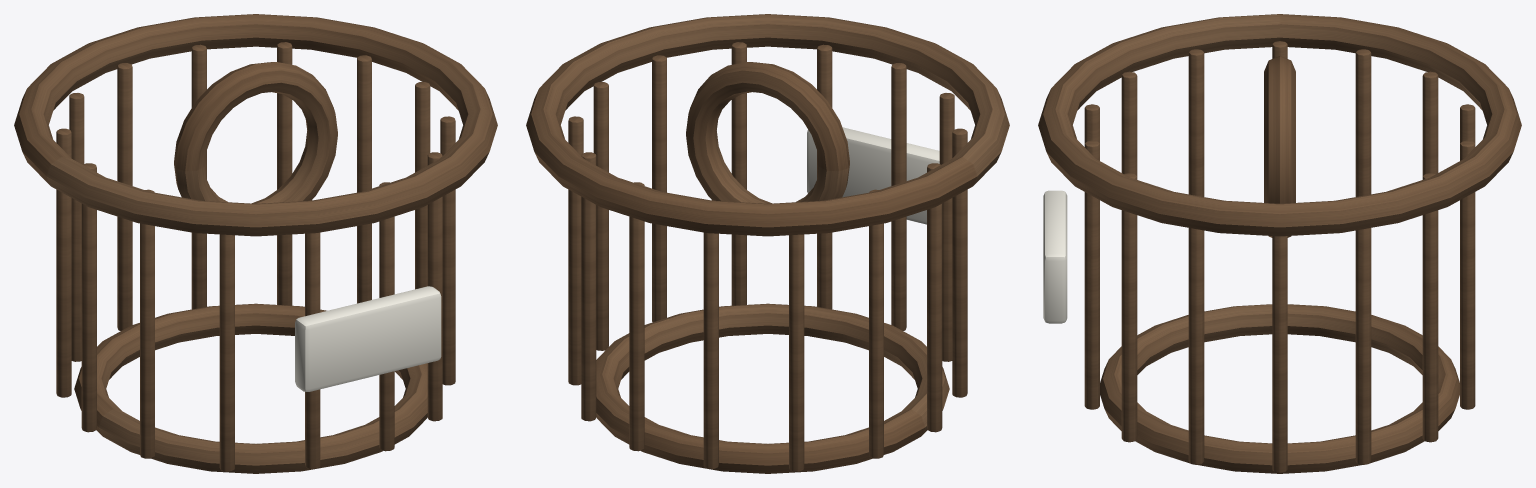
File: range_basket_high_end.glb
The picture shows the model from 3 angles, left to right: view 1: azimuth 30°, elevation 25°; view 2: azimuth 150°, elevation 25°; view 3: azimuth 270°, elevation 25°; orthographic projection.
Visible parts, largest first — view 1: RangeBasket_TopRing, RangeBasket_BottomRing, RangeBasket_CountPlaque, RangeBasket_Handle, RangeBasket_Wire_10, RangeBasket_Wire_5, RangeBasket_Wire_8, RangeBasket_Wire_7, RangeBasket_Wire_9, RangeBasket_Wire_14, RangeBasket_Wire_2, RangeBasket_Wire_3 (+6 smaller); view 2: RangeBasket_TopRing, RangeBasket_BottomRing, RangeBasket_Handle, RangeBasket_CountPlaque, RangeBasket_Wire_6, RangeBasket_Wire_5, RangeBasket_Wire_4, RangeBasket_Wire_11, RangeBasket_Wire_8, RangeBasket_Wire_3, RangeBasket_Wire_9, RangeBasket_Wire_7 (+6 smaller); view 3: RangeBasket_TopRing, RangeBasket_BottomRing, RangeBasket_Handle, RangeBasket_Wire_14, RangeBasket_Wire_2, RangeBasket_Wire_13, RangeBasket_Wire_3, RangeBasket_Wire_1, RangeBasket_Wire_12, RangeBasket_Wire_4, RangeBasket_CountPlaque, RangeBasket_Wire_7 (+5 smaller).
Boxes of the visible parts, x1,y1,x2,y2 form: RangeBasket_TopRing: [14, 14, 497, 236]; RangeBasket_BottomRing: [74, 303, 427, 473]; RangeBasket_CountPlaque: [295, 286, 441, 391]; RangeBasket_Handle: [174, 62, 337, 203]; RangeBasket_Wire_10: [219, 234, 234, 471]; RangeBasket_Wire_5: [117, 63, 132, 330]; RangeBasket_Wire_8: [81, 163, 96, 432]; RangeBasket_Wire_7: [56, 128, 71, 397]; RangeBasket_Wire_9: [140, 189, 154, 458]; RangeBasket_Wire_14: [440, 116, 455, 385]; RangeBasket_Wire_2: [357, 55, 371, 303]; RangeBasket_Wire_3: [277, 42, 292, 305]; RangeBasket_TopRing: [526, 14, 1009, 236]; RangeBasket_BottomRing: [596, 303, 949, 473]; RangeBasket_Handle: [686, 62, 849, 203]; RangeBasket_CountPlaque: [807, 127, 939, 224]; RangeBasket_Wire_6: [789, 234, 804, 471]; RangeBasket_Wire_5: [703, 200, 718, 469]; RangeBasket_Wire_4: [629, 182, 644, 451]; RangeBasket_Wire_11: [891, 63, 906, 330]; RangeBasket_Wire_8: [927, 163, 942, 432]; RangeBasket_Wire_3: [581, 152, 596, 421]; RangeBasket_Wire_9: [952, 128, 967, 397]; RangeBasket_Wire_7: [869, 189, 883, 458]; RangeBasket_TopRing: [1038, 14, 1521, 236]; RangeBasket_BottomRing: [1100, 304, 1459, 473]; RangeBasket_Handle: [1264, 56, 1295, 237]; RangeBasket_Wire_14: [1188, 228, 1204, 464]; RangeBasket_Wire_2: [1355, 228, 1371, 464]; RangeBasket_Wire_13: [1121, 173, 1137, 442]; RangeBasket_Wire_3: [1422, 173, 1438, 442]; RangeBasket_Wire_1: [1272, 236, 1287, 472]; RangeBasket_Wire_12: [1084, 140, 1099, 409]; RangeBasket_Wire_4: [1460, 140, 1475, 409]; RangeBasket_CountPlaque: [1043, 190, 1067, 323]; RangeBasket_Wire_7: [1355, 49, 1371, 196].
Size of what is drawn, in the model's own units: 0.362 by 0.28 by 0.362.
2 materials, 1 textured.
